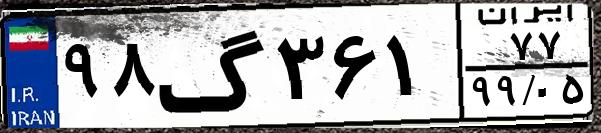0: (535, 70, 560, 125)
1: (385, 28, 445, 110)
3: (270, 28, 330, 110)
5: (560, 70, 590, 125)
6: (330, 28, 385, 110)
7: (537, 27, 568, 80), (508, 27, 537, 80)
8: (110, 28, 156, 98)
9: (57, 26, 110, 100), (470, 70, 495, 125), (495, 70, 520, 125)
گ: (156, 12, 270, 120)
